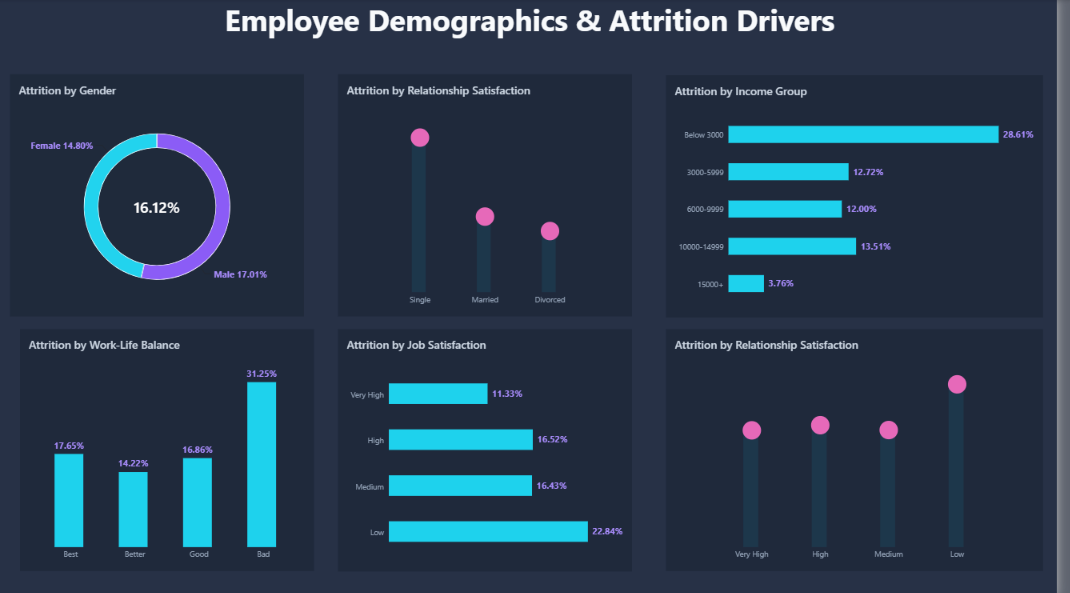

This screenshot's page, from the dashboard's own definition file:
{"tool":"powerbi","page":{"name":"Employee Demographics","canvas":[1920,1080],"ordinal":1},"visuals":[{"type":"textbox","box":[10,0,1910,76],"z":0},{"type":"donutChart","title":"Attrition  by Gender","fields":{"Category":["HR_Data.Gender"],"Y":["HR_Data.Attrition Rate"]},"box":[25.7,135.7,532,438],"z":1000},{"type":"clusteredBarChart","title":"Attrition  by Income Group","fields":{"Category":["HR_Data.income_group"],"Y":["HR_Data.Attrition Rate"]},"box":[1212.4,137.6,682,438],"z":3000},{"type":"lineStackedColumnComboChart","title":"Attrition  by Relationship Satisfaction","fields":{"Category":["HR_Data.Relationship Satisfaction Label"],"Y":["HR_Data.Attrition Rate"],"Y2":["HR_Data.Attrition Rate"]},"box":[1212.5,597.2,682.2,437.9],"z":4000},{"type":"clusteredBarChart","title":"Attrition  by Job Satisfaction","fields":{"Category":["HR_Data.Job Satisfaction Label"],"Y":["HR_Data.Attrition Rate"]},"box":[618,598,532,438],"z":5000},{"type":"clusteredColumnChart","title":"Attrition by Work-Life Balance","fields":{"Category":["HR_Data.WorkLifeBalance_Label"],"Y":["HR_Data.Attrition Rate"]},"box":[43.4,597.2,532,437.9],"z":6000},{"type":"lineStackedColumnComboChart","title":"Attrition  by Relationship Satisfaction","fields":{"Y":["HR_Data.Attrition Rate"],"Y2":["HR_Data.Attrition Rate"],"Category":["HR_Data.MaritalStatus"]},"box":[618.9,135.7,532,438],"z":7000}]}

Visuals, with their boxes in screenshot pixels (x1, y1, x2, y2), scaled from the page's 1920x1080 canvas onto the 1070x593 screenshot:
textbox: Rect(6, 0, 1069, 42)
"Attrition  by Gender" donutChart: Rect(14, 75, 311, 315)
"Attrition  by Income Group" clusteredBarChart: Rect(676, 76, 1056, 316)
"Attrition  by Relationship Satisfaction" lineStackedColumnComboChart: Rect(676, 328, 1056, 568)
"Attrition  by Job Satisfaction" clusteredBarChart: Rect(344, 328, 641, 569)
"Attrition by Work-Life Balance" clusteredColumnChart: Rect(24, 328, 321, 568)
"Attrition  by Relationship Satisfaction" lineStackedColumnComboChart: Rect(345, 75, 641, 315)
